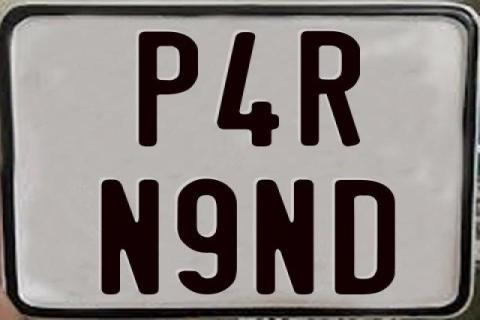0: (214, 30, 281, 146), (174, 176, 238, 297)
D: (332, 179, 396, 297)
N: (256, 177, 318, 293), (98, 179, 157, 295)
P: (138, 31, 200, 150)
R: (298, 29, 357, 144)
